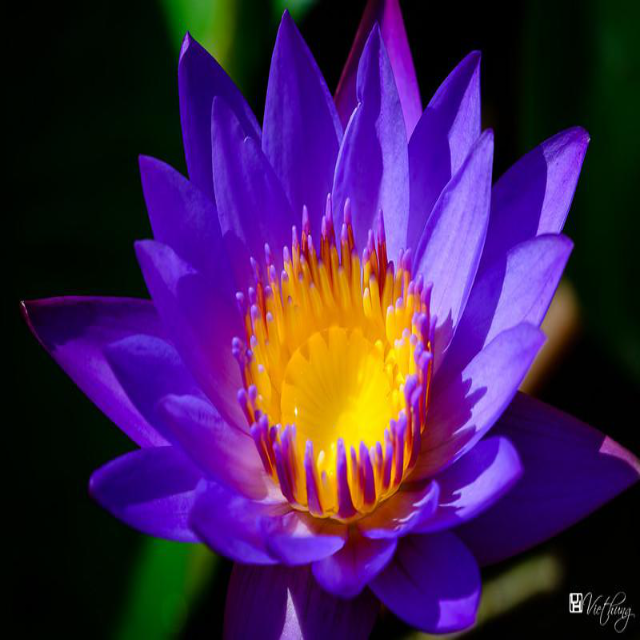water_lily: (17, 6, 636, 622)
